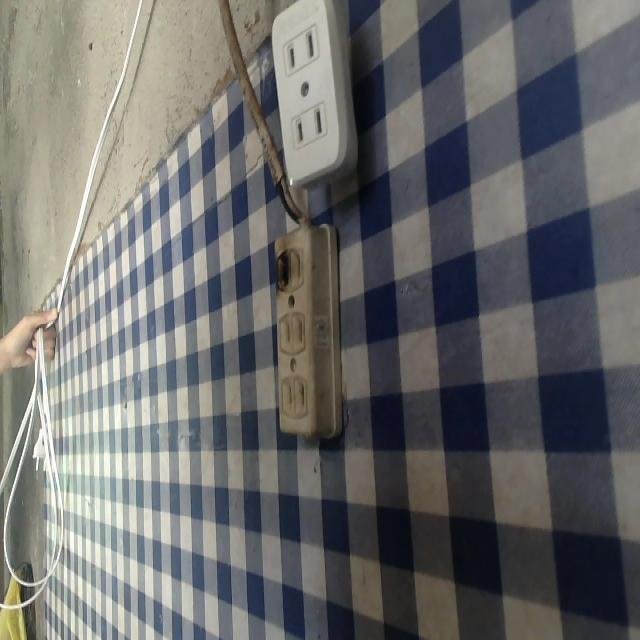-: (272, 244, 295, 291)
